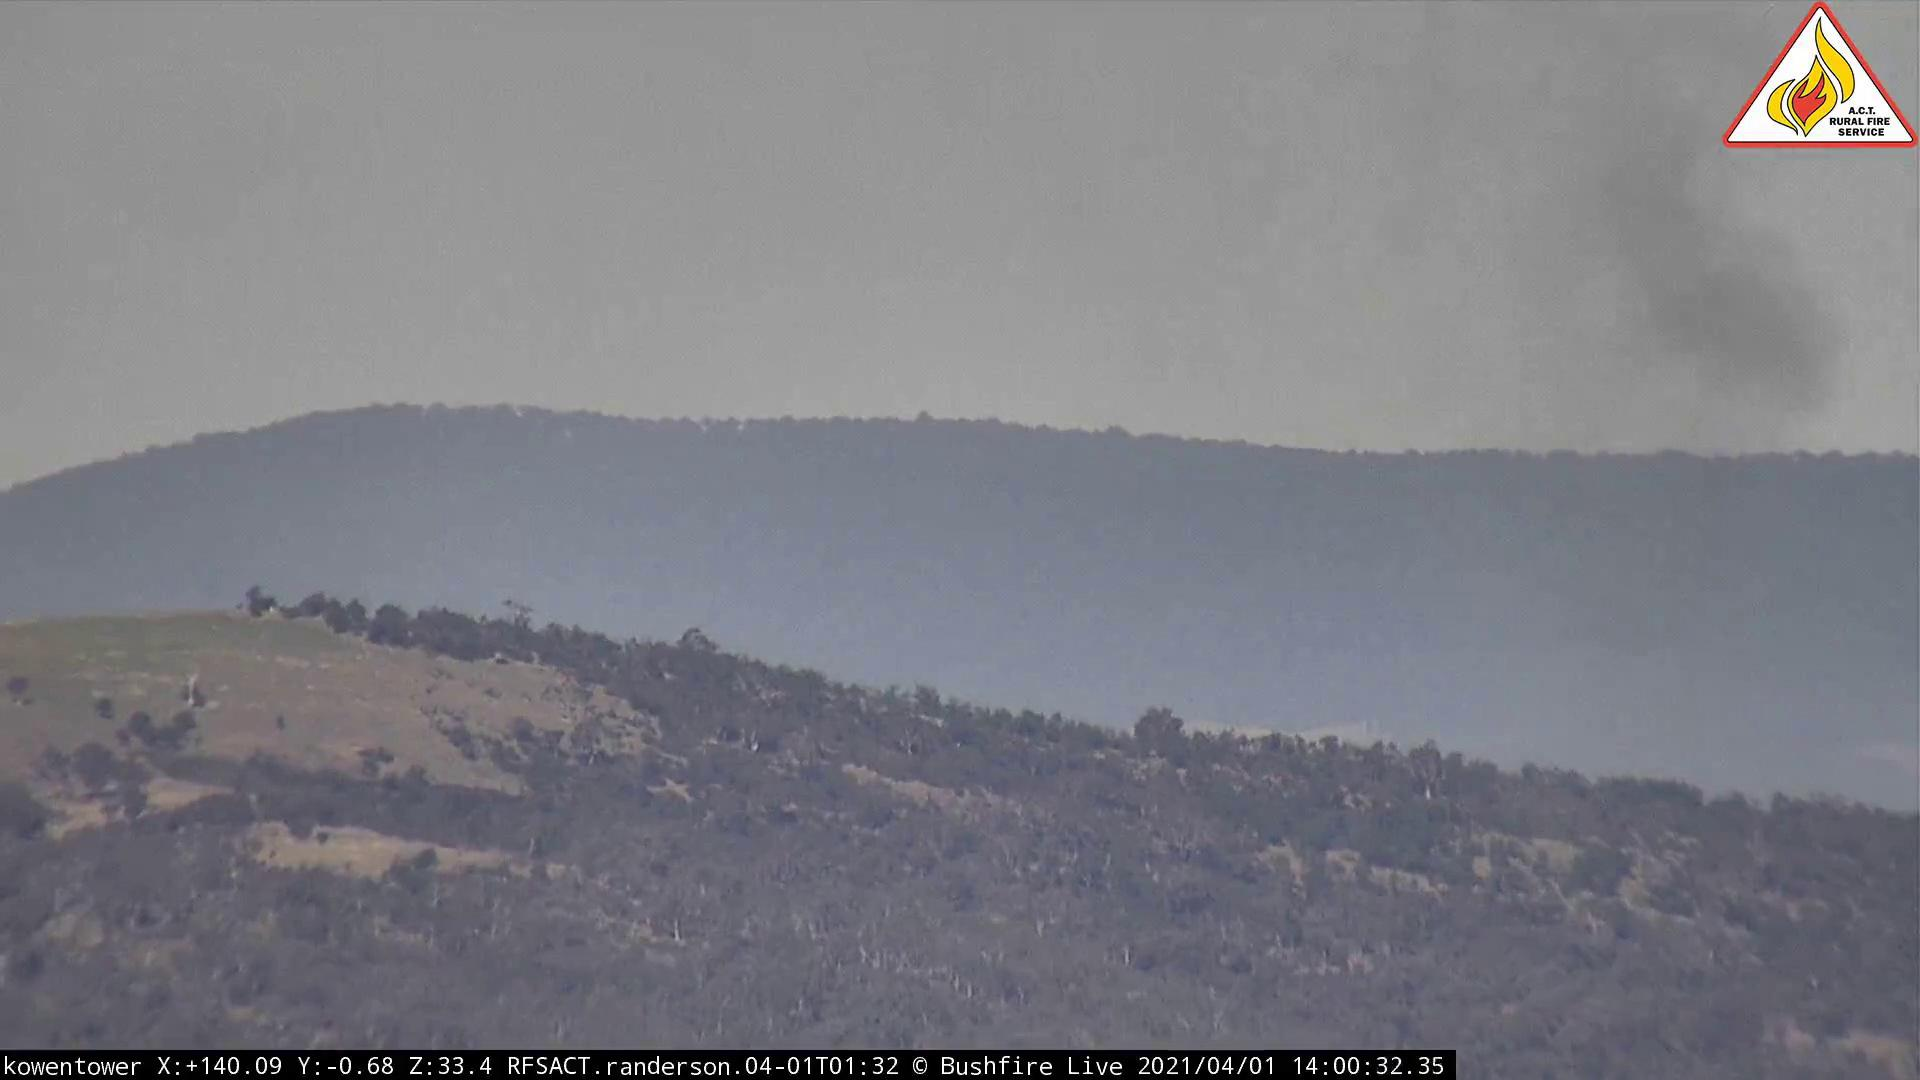Smoke: (1473, 164, 1850, 542)
